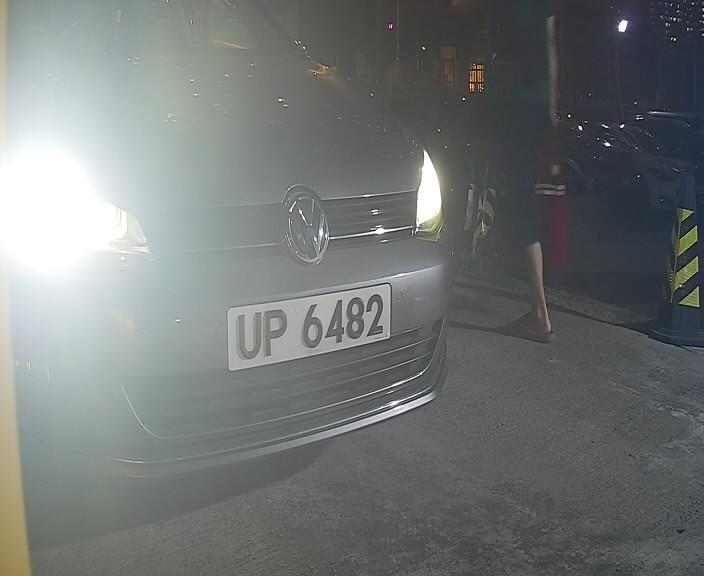License Plate: (227, 273, 393, 373)
